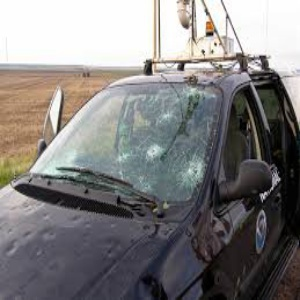front_windshield_glass: (82, 90, 203, 178)
